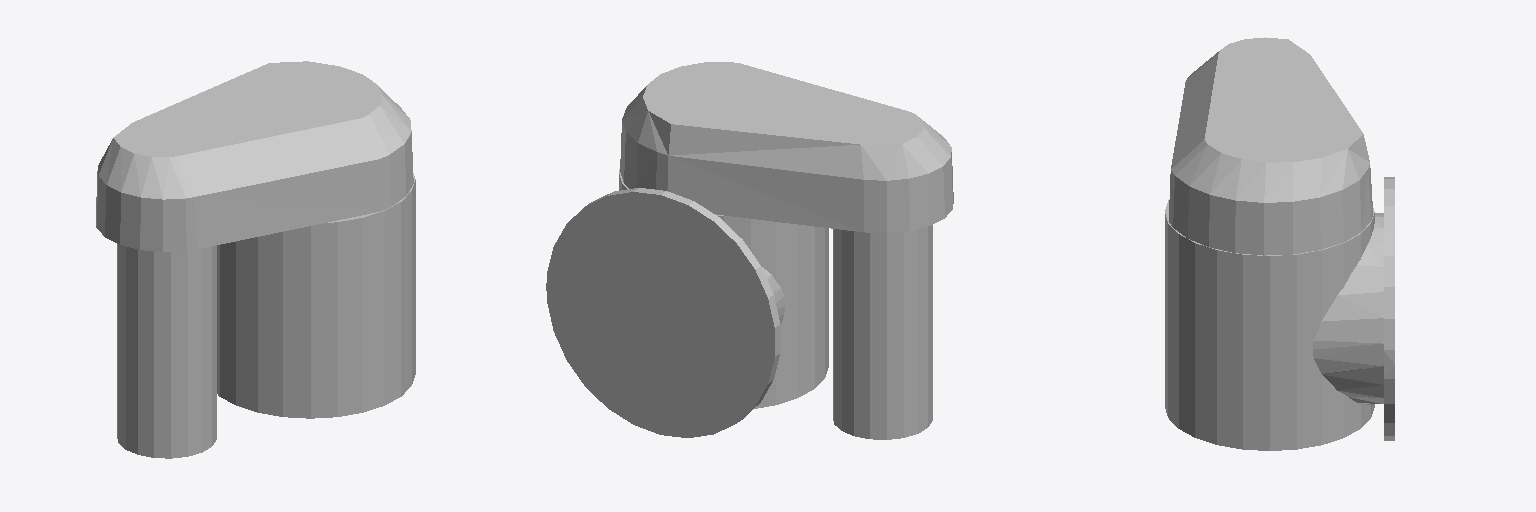
The picture shows the model from 3 angles: view 1: azimuth 30°, elevation 25°; view 2: azimuth 150°, elevation 25°; view 3: azimuth 270°, elevation 25°; orthographic projection.
Visible parts, largest first — view 1: Shape_IndexedFaceSet.001_Shape_IndexedFaceSet.062, Shape_IndexedFaceSet.002_Shape_IndexedFaceSet.063, Shape_IndexedFaceSet.003_Shape_IndexedFaceSet.064; view 2: Shape_IndexedFaceSet_Shape_IndexedFaceSet.061, Shape_IndexedFaceSet.001_Shape_IndexedFaceSet.062, Shape_IndexedFaceSet.003_Shape_IndexedFaceSet.064, Shape_IndexedFaceSet.002_Shape_IndexedFaceSet.063; view 3: Shape_IndexedFaceSet.001_Shape_IndexedFaceSet.062, Shape_IndexedFaceSet.002_Shape_IndexedFaceSet.063, Shape_IndexedFaceSet_Shape_IndexedFaceSet.061.
Part boxes in pixels (left/top/right/bottom): Shape_IndexedFaceSet.001_Shape_IndexedFaceSet.062: left=96, top=61, right=413, bottom=251; Shape_IndexedFaceSet.002_Shape_IndexedFaceSet.063: left=217, top=173, right=415, bottom=418; Shape_IndexedFaceSet.003_Shape_IndexedFaceSet.064: left=117, top=244, right=216, bottom=458; Shape_IndexedFaceSet_Shape_IndexedFaceSet.061: left=546, top=188, right=784, bottom=437; Shape_IndexedFaceSet.001_Shape_IndexedFaceSet.062: left=620, top=62, right=953, bottom=232; Shape_IndexedFaceSet.003_Shape_IndexedFaceSet.064: left=833, top=225, right=932, bottom=439; Shape_IndexedFaceSet.002_Shape_IndexedFaceSet.063: left=619, top=169, right=828, bottom=408; Shape_IndexedFaceSet.001_Shape_IndexedFaceSet.062: left=1169, top=37, right=1372, bottom=255; Shape_IndexedFaceSet.002_Shape_IndexedFaceSet.063: left=1165, top=199, right=1374, bottom=450; Shape_IndexedFaceSet_Shape_IndexedFaceSet.061: left=1313, top=177, right=1394, bottom=440.
Size of the model in its own units: 0.083 by 0.072 by 0.0505.